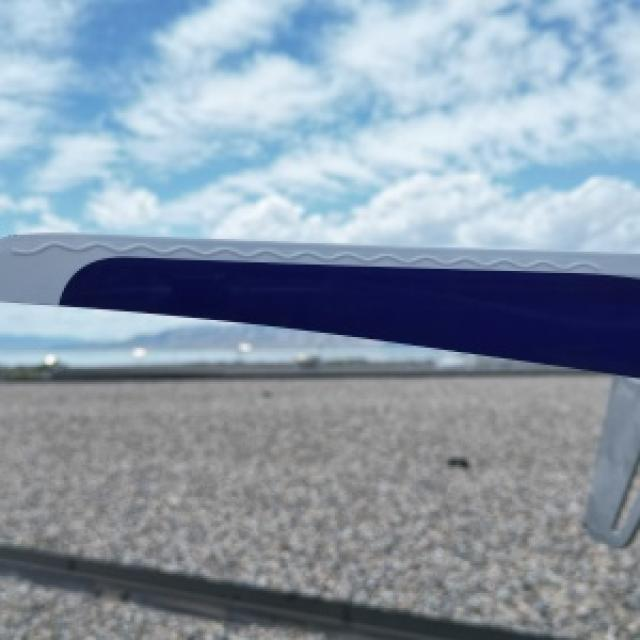healthy: (0, 235, 638, 544)
